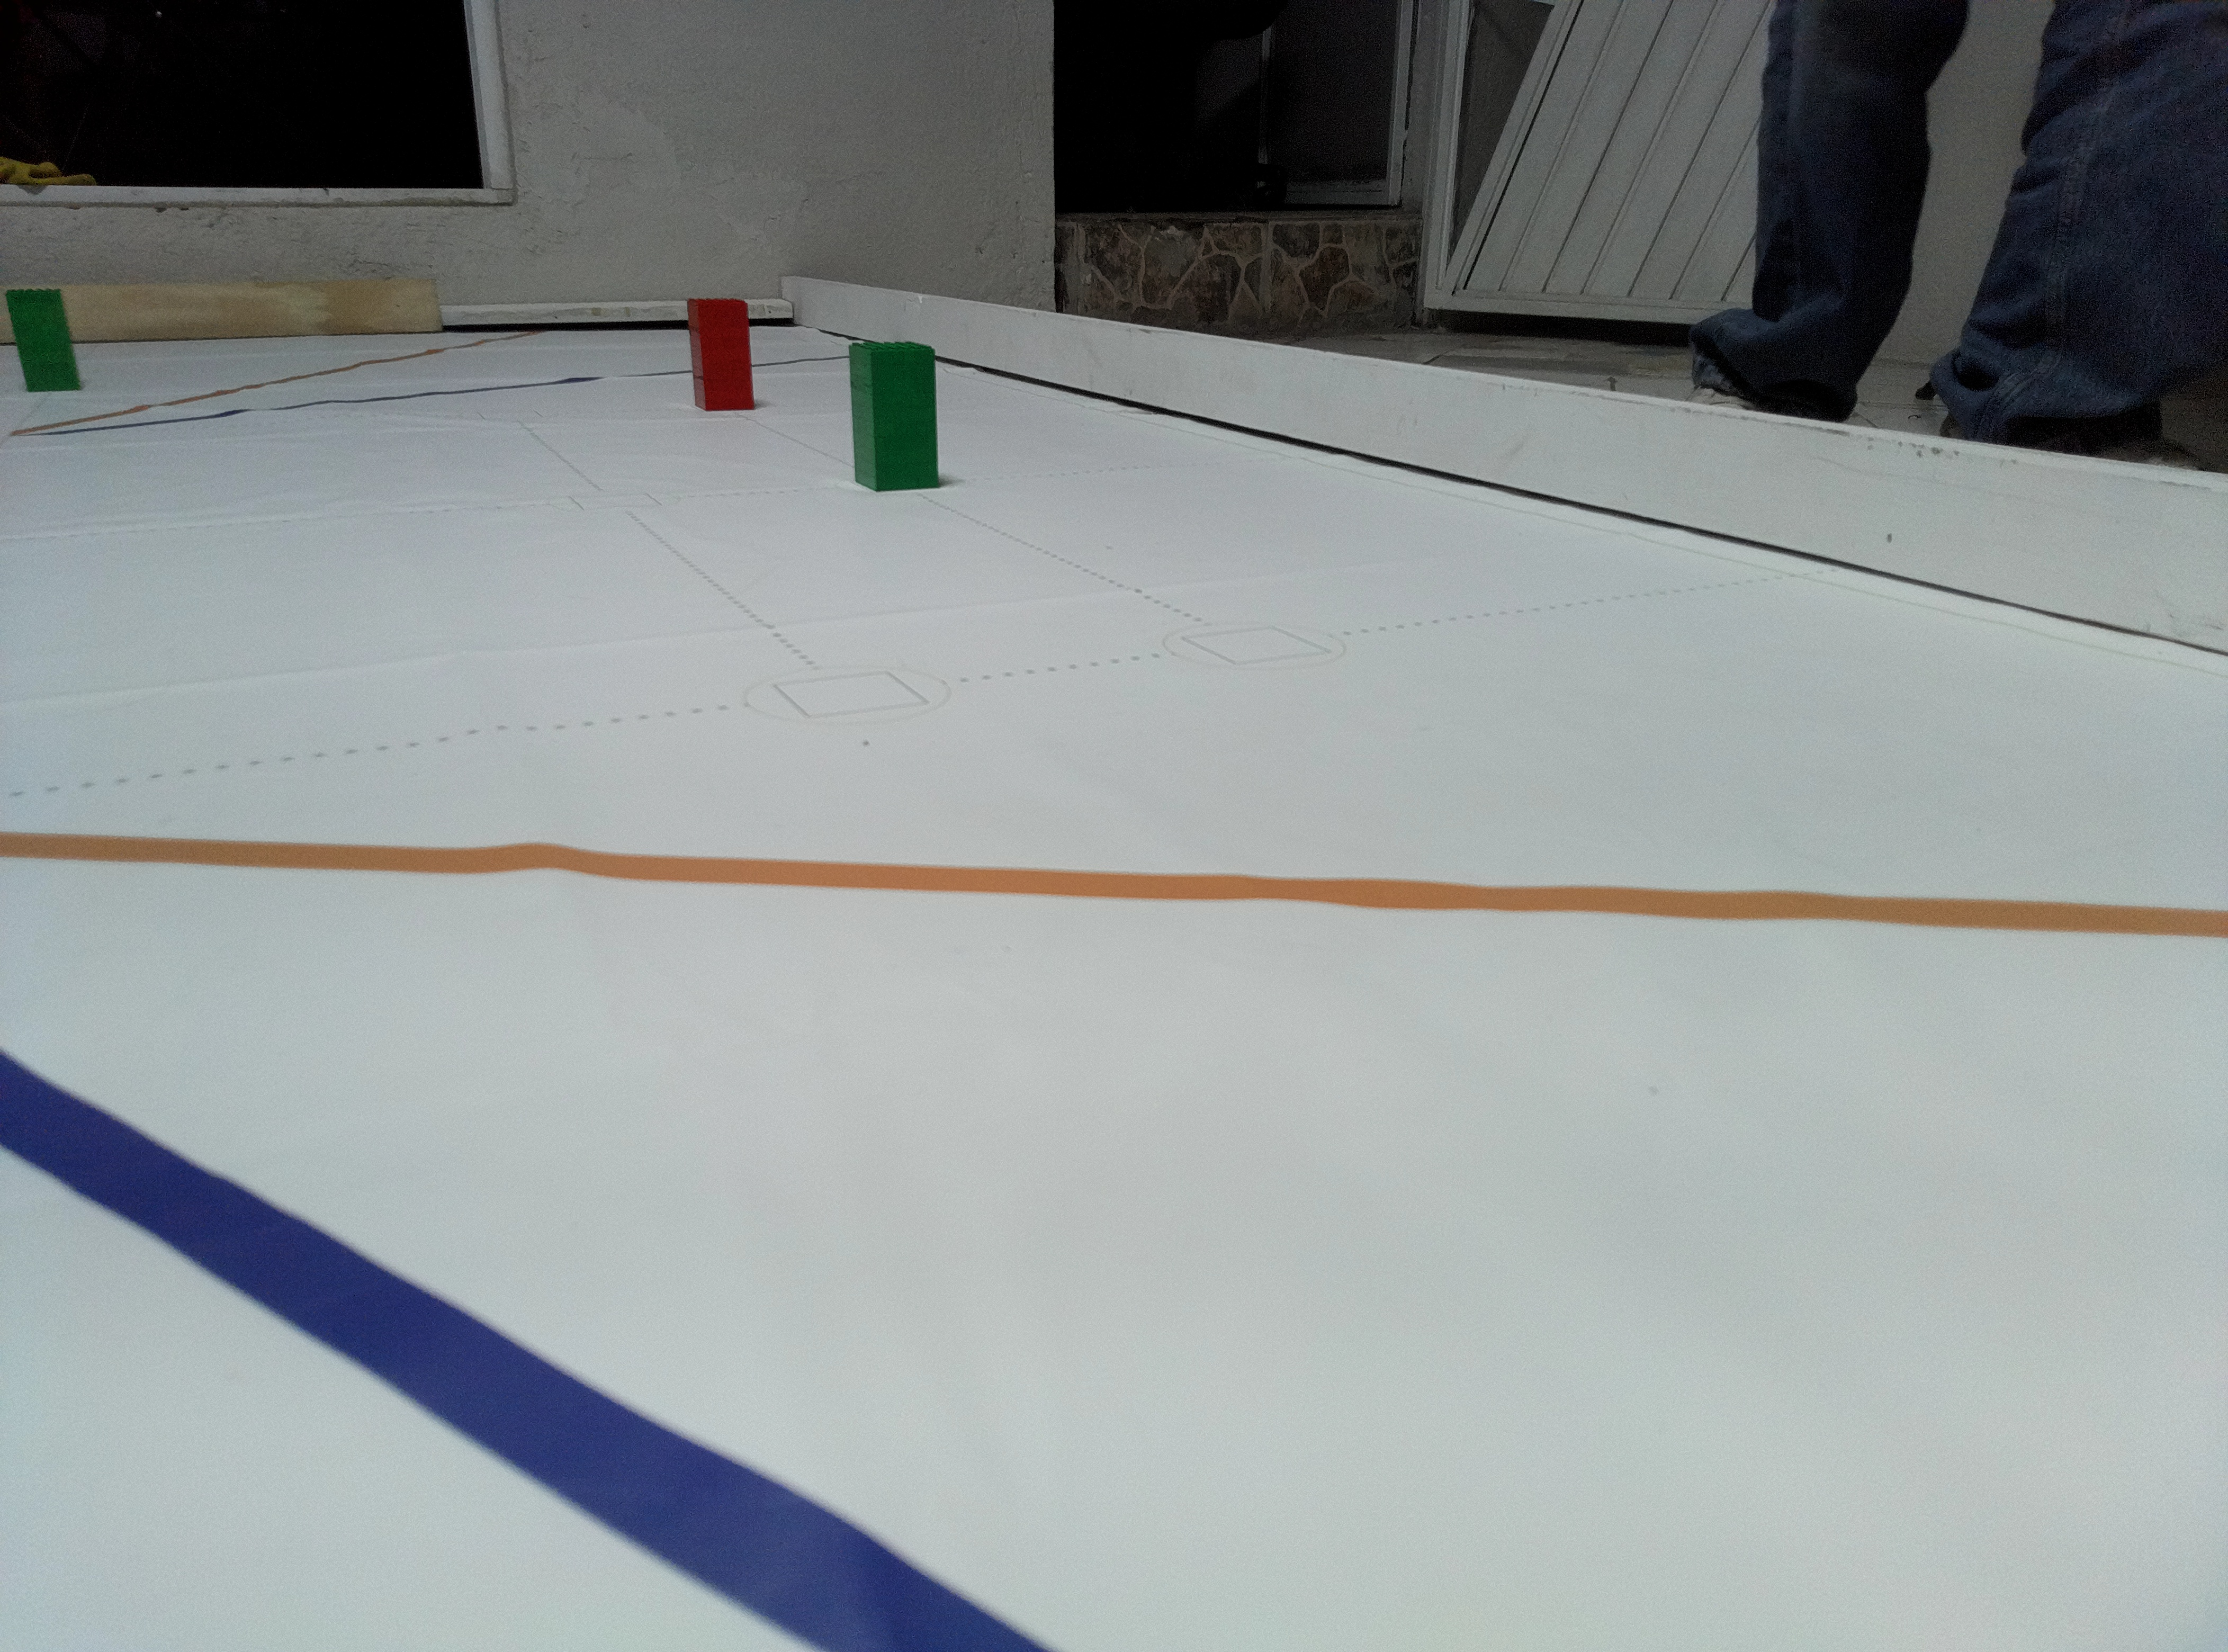greenbox: (845, 340, 940, 493), (3, 290, 83, 394)
redbox: (685, 297, 757, 411)
